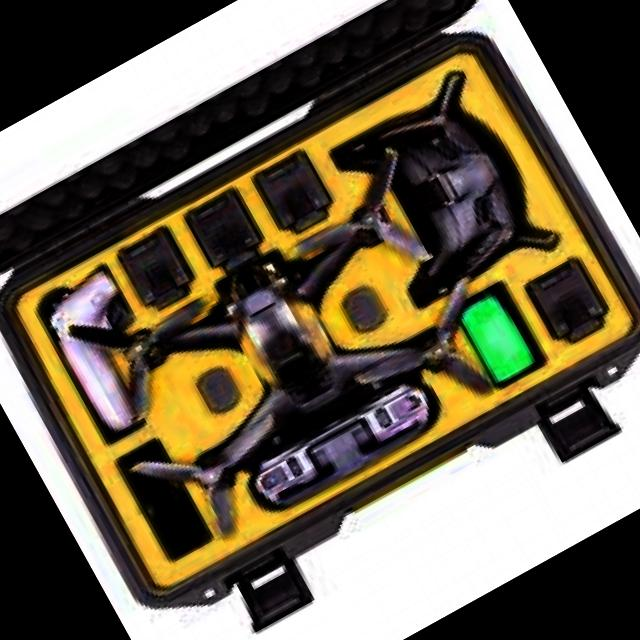drone: (58, 128, 529, 558)
